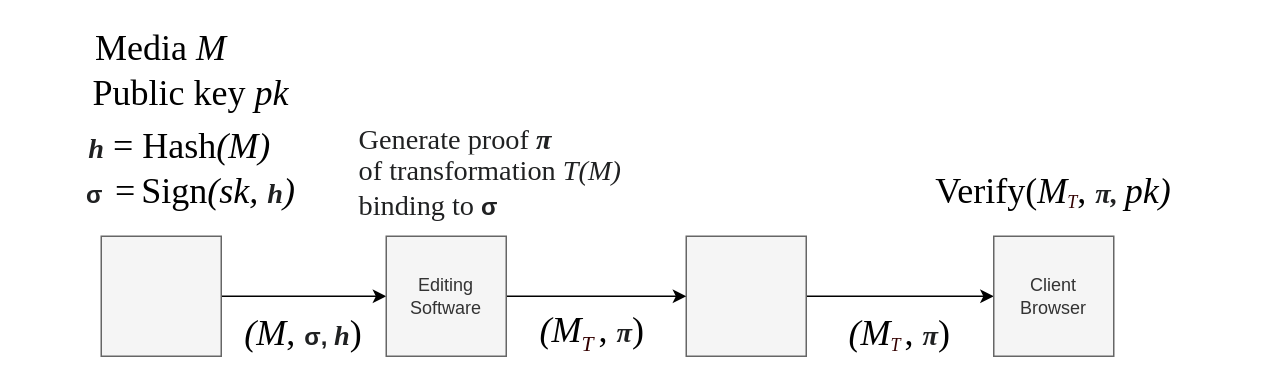
This 1281x383 diagram has some shape labels left out. The centre of each missing label's shape, as x and y in pixels:
"Media Source (sk)" belongs at (160,295).
"Server" belongs at (745,295).
